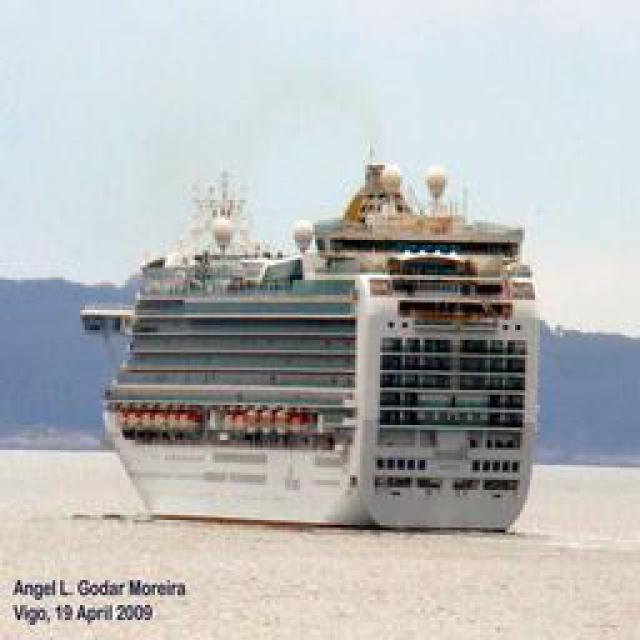Ship: (90, 152, 553, 530)
